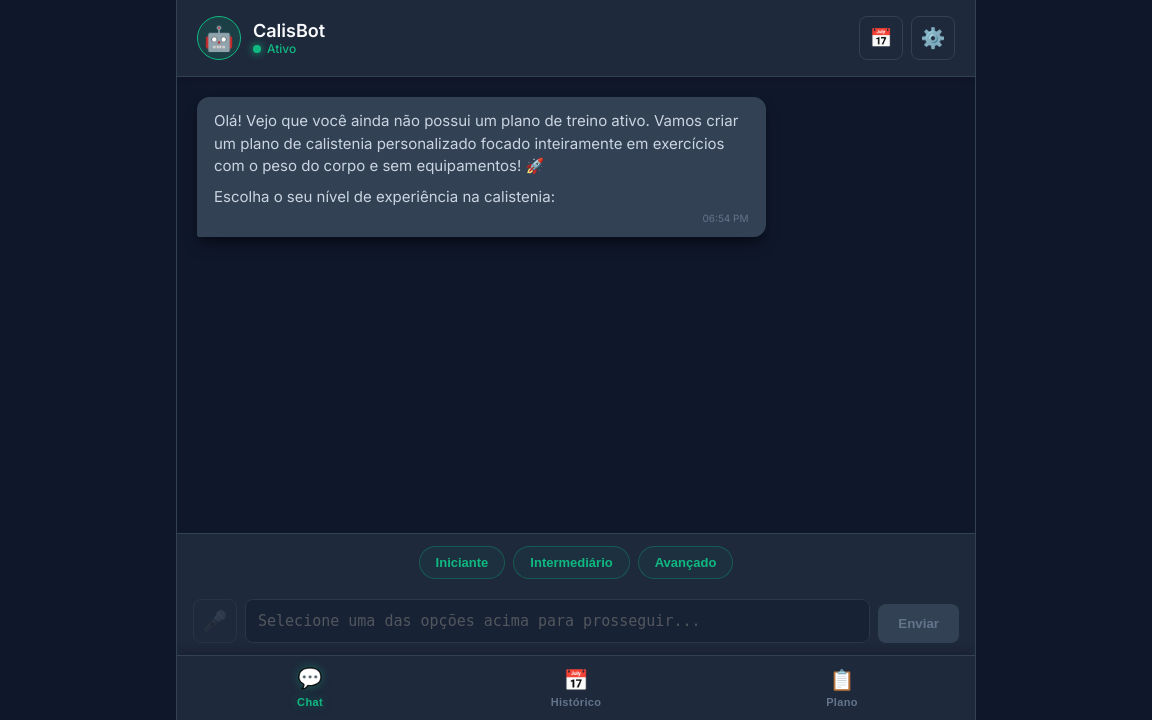
it: CalisBot App & Components › disables text input and mic during guided plan creation steps, and reenables on completion/confirmation step
Expected: the text "Vejo que você ainda não possui um plano de treino ativo" is shown, [214,111,738,175]
Expected: the text box with placeholder "Selecione uma das opções acima para prosseguir..." is disabled, [245,599,870,643]
Click Iniciante to go to 'days' step
Click the button "Iniciante": (462, 562) [419,546,505,579]
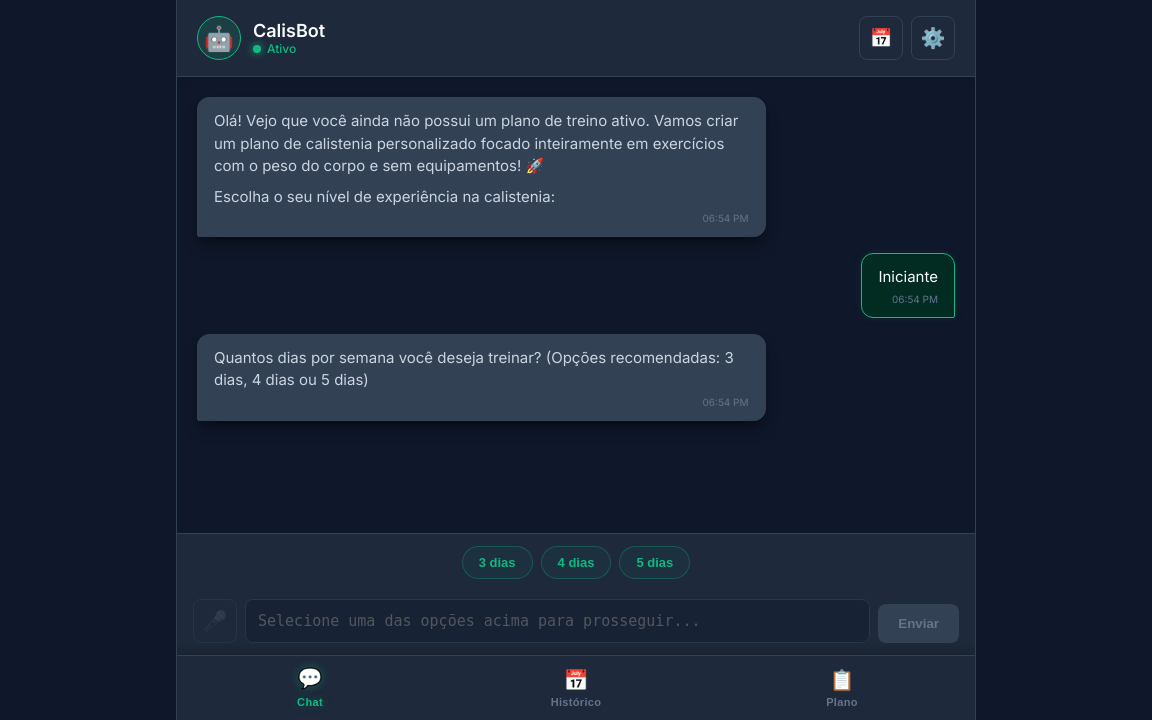
Expected: the text box with placeholder "Selecione uma das opções acima para prosseguir..." is disabled, [245,599,870,643]
Expected: the text "Quantos dias por semana você deseja treinar?" is shown, [214,348,734,389]
Click 3 dias to go to 'goal' step
Click the button "3 dias": (497, 562) [462,546,533,579]
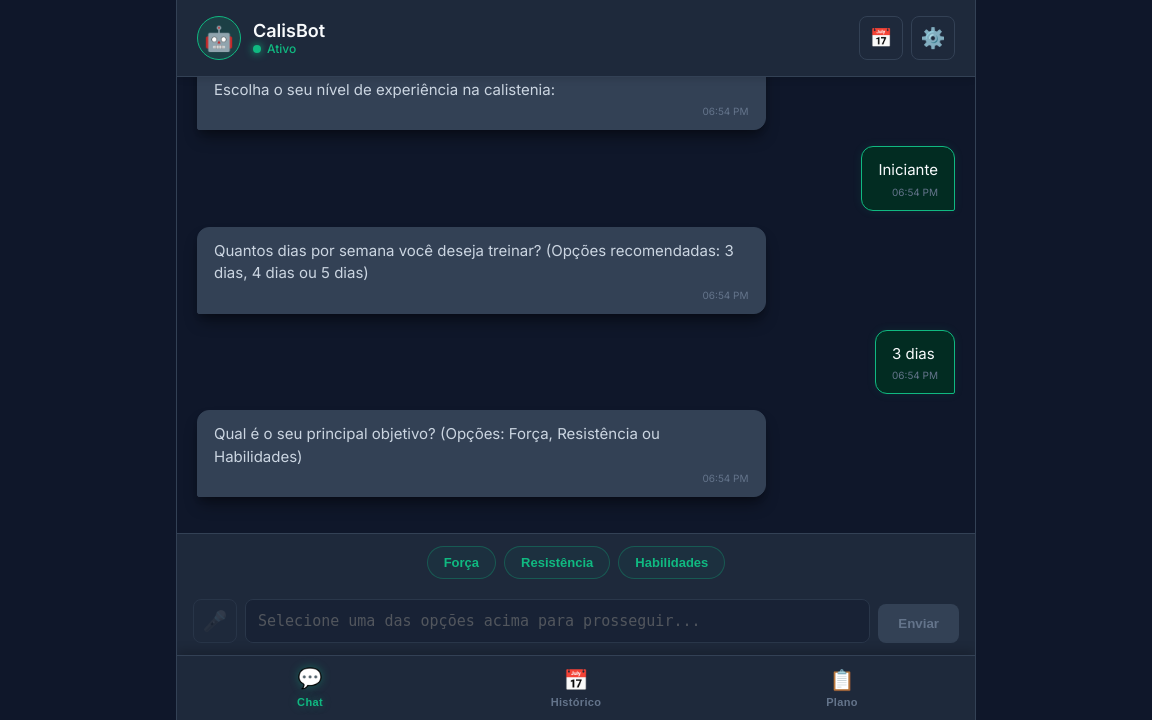
Expected: the text box with placeholder "Selecione uma das opções acima para prosseguir..." is disabled, [245,599,870,643]
Expected: the text "Qual é o seu principal objetivo?" is shown, [214,424,660,466]
Click Força to finish and trigger generation
Click the button "Força": (461, 562) [427,546,496,579]
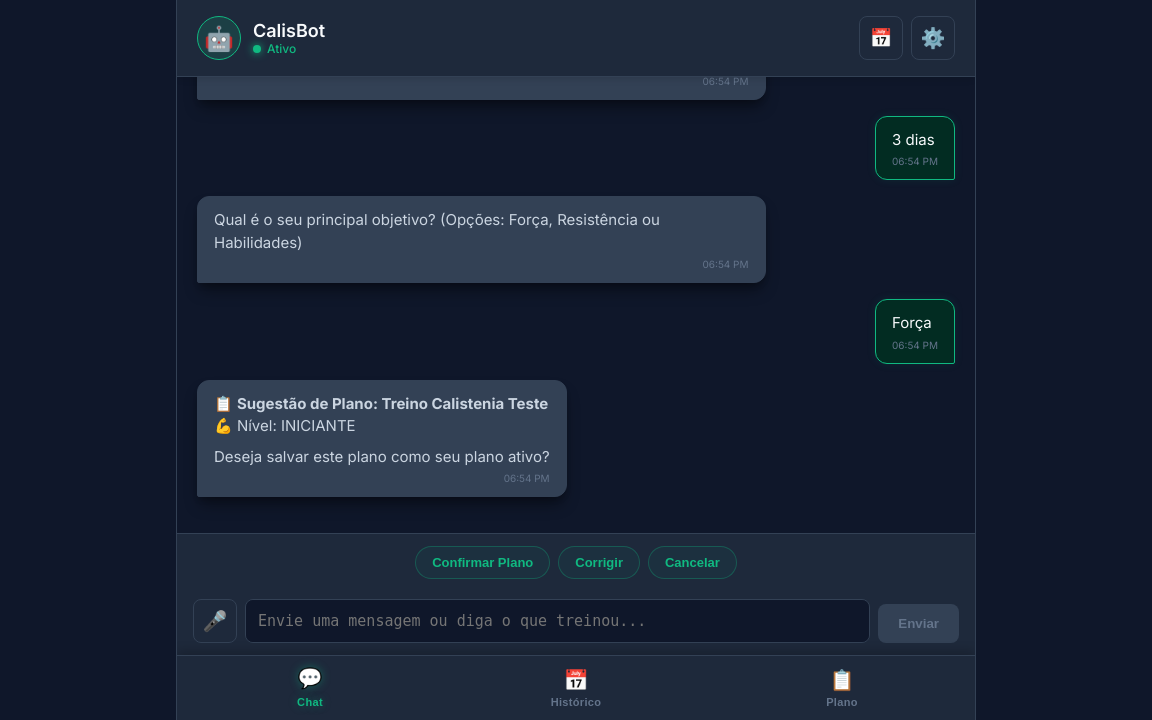
Expected: the text "Deseja salvar este plano como seu plano ativo?" is shown, [214,446,550,468]
Expected: the text box with placeholder "Envie uma mensagem ou diga o que treinou..." is enabled, [245,599,870,643]
Expected: the button named "Gravar comando por voz" is enabled, [193,599,237,643]
